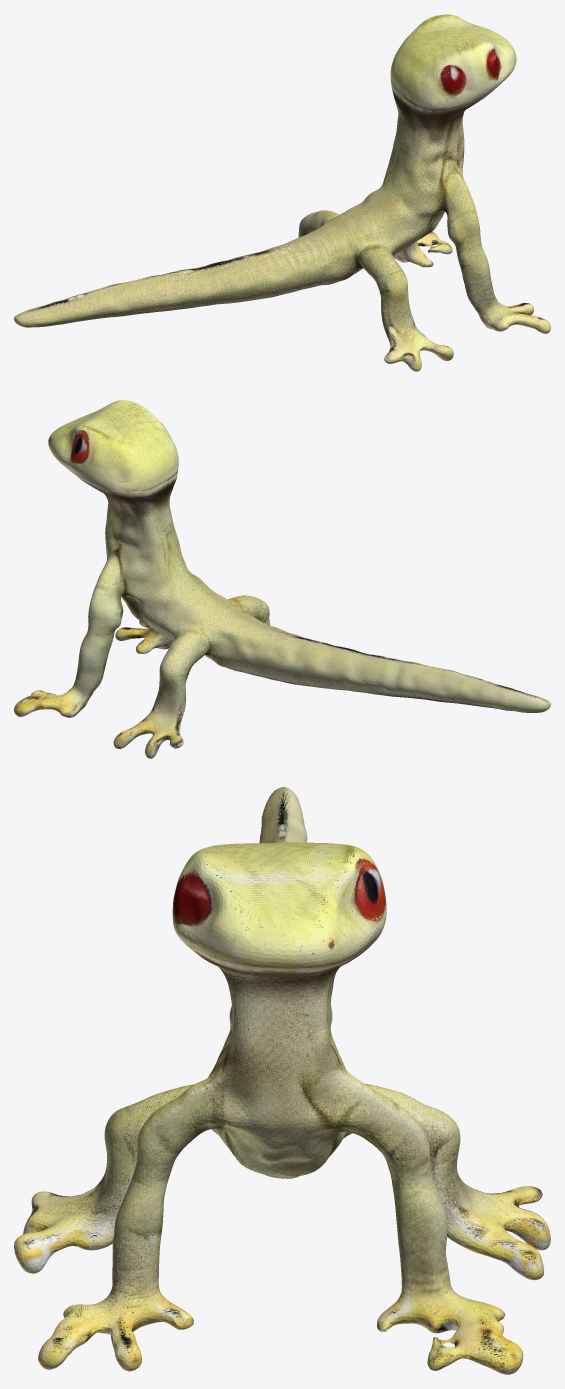
File: textured_error.glb
3 views of the same model, one above another, from view 1: azimuth 30°, elevation 25°; view 2: azimuth 150°, elevation 25°; view 3: azimuth 270°, elevation 25° (orthographic). The views are drawn at different scales.
Parts seen in each view (by area): view 1: Node; view 2: Node; view 3: Node.
Part boxes in pixels (x1,y1,x2,y2): Node: (14, 14, 550, 371); Node: (14, 400, 550, 758); Node: (14, 787, 550, 1374).
Bounding box in the file's own units: 2 × 1.03 × 1.
Materials: 1 (1 with a texture image).
